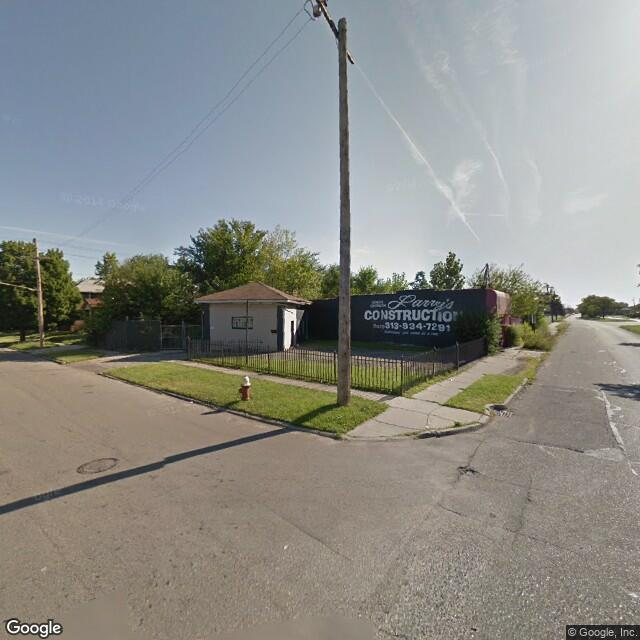litter: (420, 418, 436, 433)
